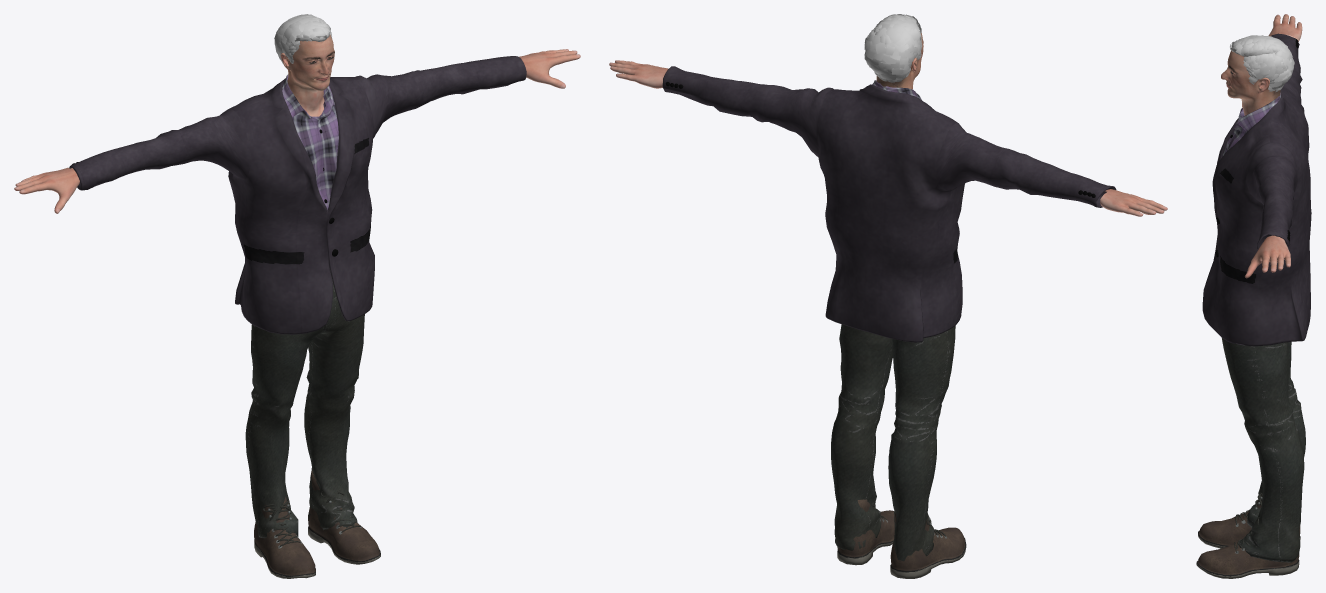
File: AshW_Maya.fbx
3 renders of one model, left to right at view 1: azimuth 30°, elevation 25°; view 2: azimuth 150°, elevation 25°; view 3: azimuth 270°, elevation 25°, orthographic. The views are drawn at different scales.
Parts seen in each view (by area): view 1: AshW:Tops, AshW:Bottoms, AshW:Body, AshW:Shoes, AshW:Hair; view 2: AshW:Tops, AshW:Bottoms, AshW:Shoes, AshW:Hair, AshW:Body; view 3: AshW:Tops, AshW:Bottoms, AshW:Shoes, AshW:Body, AshW:Hair.
Part boxes in pixels (x1=…): AshW:Tops: x1=69, y1=56, x2=526, y2=334; AshW:Bottoms: x1=245, y1=273, x2=364, y2=538; AshW:Body: x1=14, y1=34, x2=580, y2=213; AshW:Shoes: x1=254, y1=471, x2=380, y2=578; AshW:Hair: x1=274, y1=14, x2=332, y2=64; AshW:Tops: x1=662, y1=66, x2=1116, y2=342; AshW:Bottoms: x1=831, y1=324, x2=955, y2=561; AshW:Shoes: x1=837, y1=499, x2=966, y2=578; AshW:Hair: x1=864, y1=14, x2=922, y2=82; AshW:Body: x1=609, y1=33, x2=1167, y2=216; AshW:Tops: x1=1202, y1=33, x2=1311, y2=346; AshW:Bottoms: x1=1222, y1=338, x2=1305, y2=562; AshW:Shoes: x1=1196, y1=491, x2=1300, y2=578; AshW:Body: x1=1221, y1=14, x2=1302, y2=278; AshW:Hair: x1=1230, y1=35, x2=1294, y2=92.
Size of the model in its own units: 198 by 182 by 36.65.
